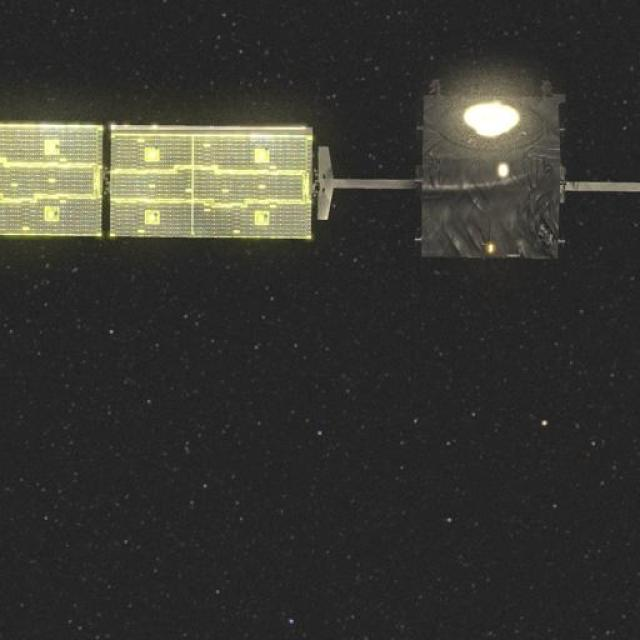smart_1: (29, 79, 621, 298)
